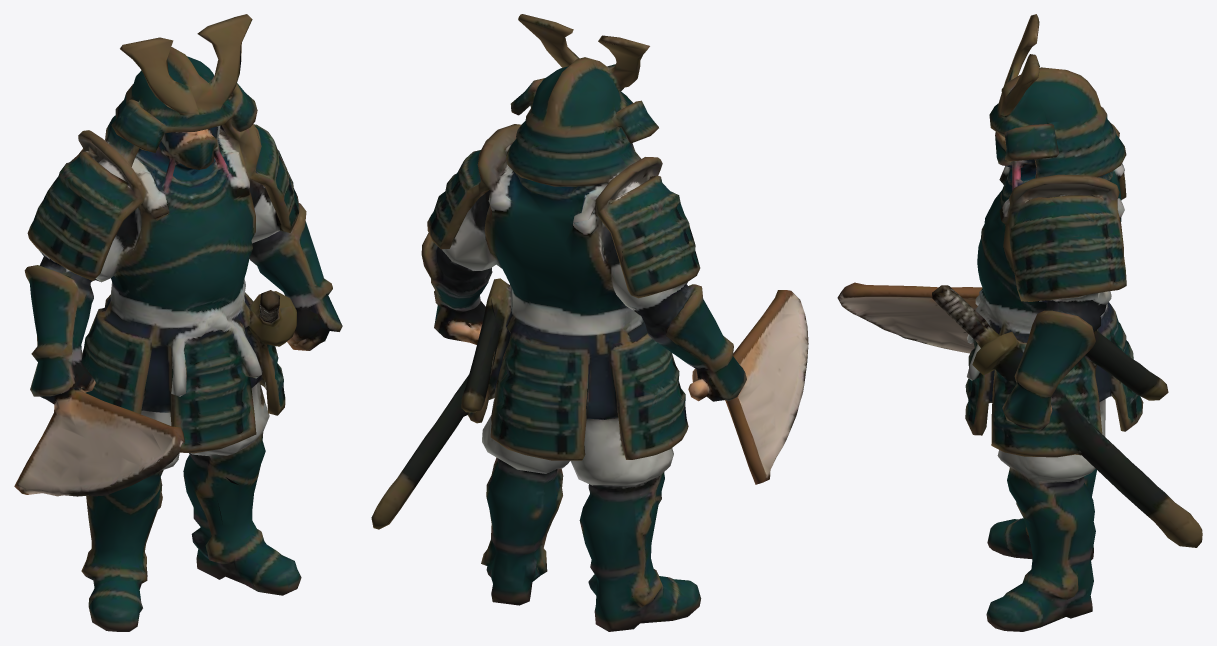
Rendered from detail_8_lo.glb.
3 renders of one model, left to right at view 1: azimuth 30°, elevation 25°; view 2: azimuth 150°, elevation 25°; view 3: azimuth 270°, elevation 25°, orthographic. The views are drawn at different scales.
Visible parts, largest first — view 1: Mesh_0.001; view 2: Mesh_0.001; view 3: Mesh_0.001.
Part boxes in pixels (x1,y1,x2,y2): Mesh_0.001: (14,14,342,631); Mesh_0.001: (371,14,808,631); Mesh_0.001: (837,14,1202,631).
Bounding box in the file's own units: 0.6 × 1.01 × 0.6127.
1 material, 1 textured.
